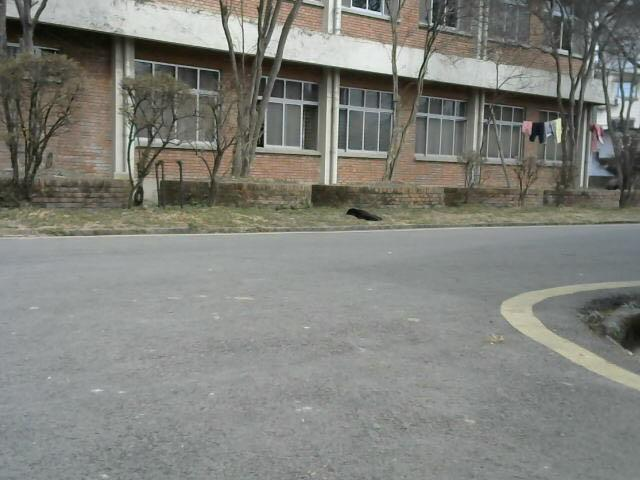Building: (3, 4, 603, 202)
Road: (2, 221, 640, 480)
Tree: (489, 0, 640, 206), (216, 0, 301, 167), (386, 2, 444, 196), (0, 58, 76, 201), (119, 69, 185, 210)
